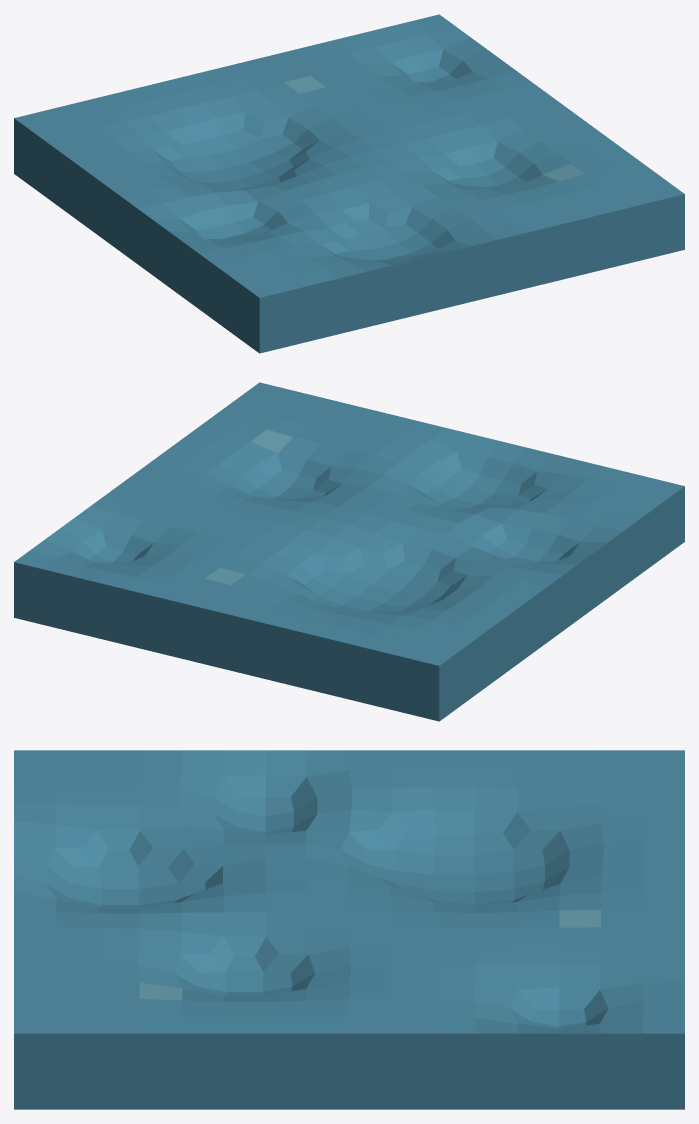
The model's file is floor_pool.glb.
3 renders of one model, top to bottom at view 1: azimuth 30°, elevation 25°; view 2: azimuth 150°, elevation 25°; view 3: azimuth 270°, elevation 25°, orthographic. The views are drawn at different scales.
Parts seen in each view (by area): view 1: crypt_floor_pool; view 2: crypt_floor_pool; view 3: crypt_floor_pool.
Boxes of the visible parts, <box> form: crypt_floor_pool: <box>14,14,684,353</box>; crypt_floor_pool: <box>14,382,684,721</box>; crypt_floor_pool: <box>14,750,684,1109</box>.
Bounding box in the file's own units: 1 × 0.125 × 1.
